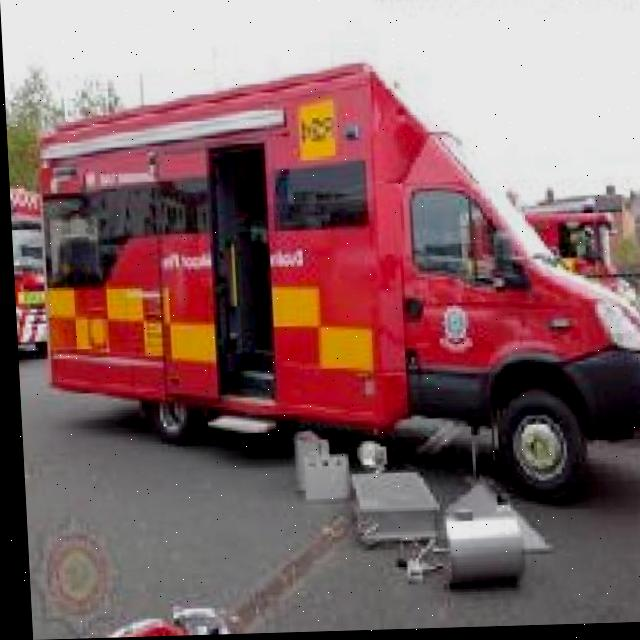emergency: (25, 55, 640, 519)
